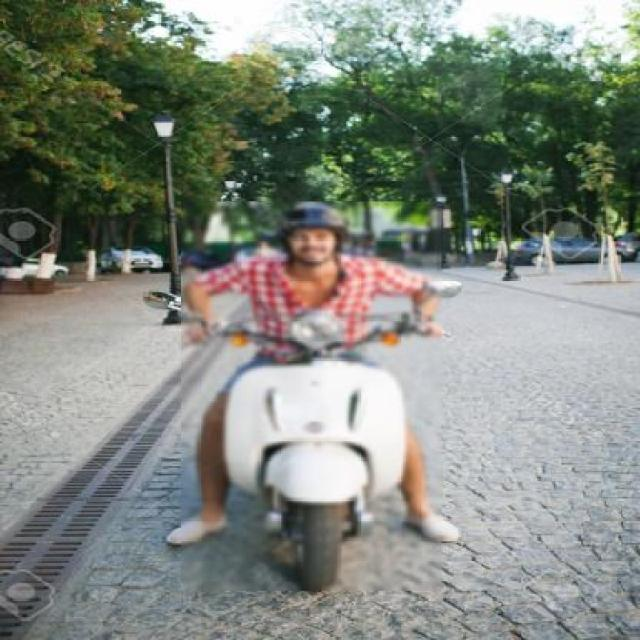helmet: (266, 196, 352, 281)
motorcycle: (132, 188, 478, 600)
